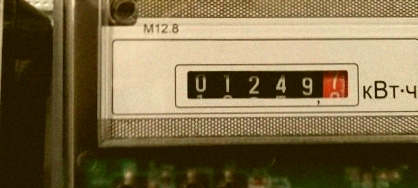0: (193, 72, 208, 92)
1: (220, 72, 233, 93)
2: (245, 73, 262, 95)
4: (274, 72, 288, 93)
7: (328, 69, 341, 89)
9: (300, 74, 314, 95)
screen: (171, 58, 363, 109)
